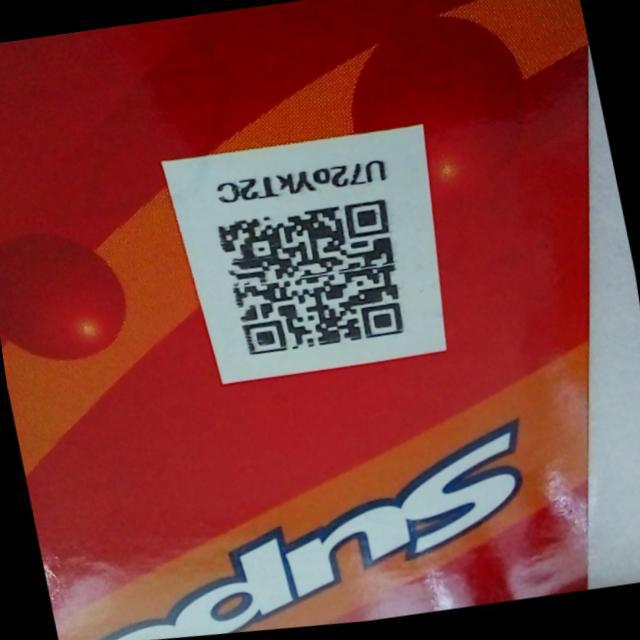QRCode: (208, 182, 428, 378)
